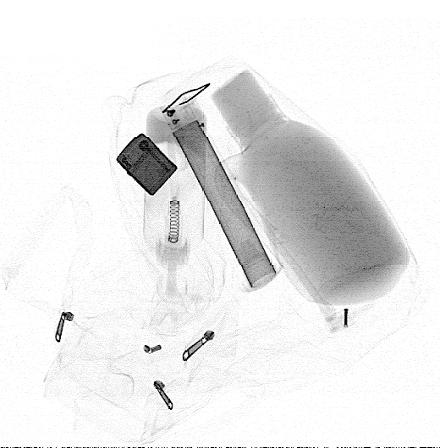Lighter: (116, 132, 178, 196)
